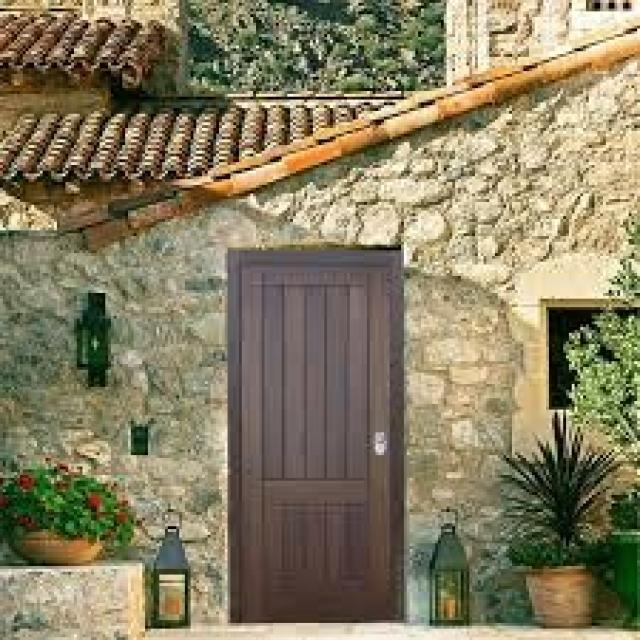door: (226, 245, 405, 623)
